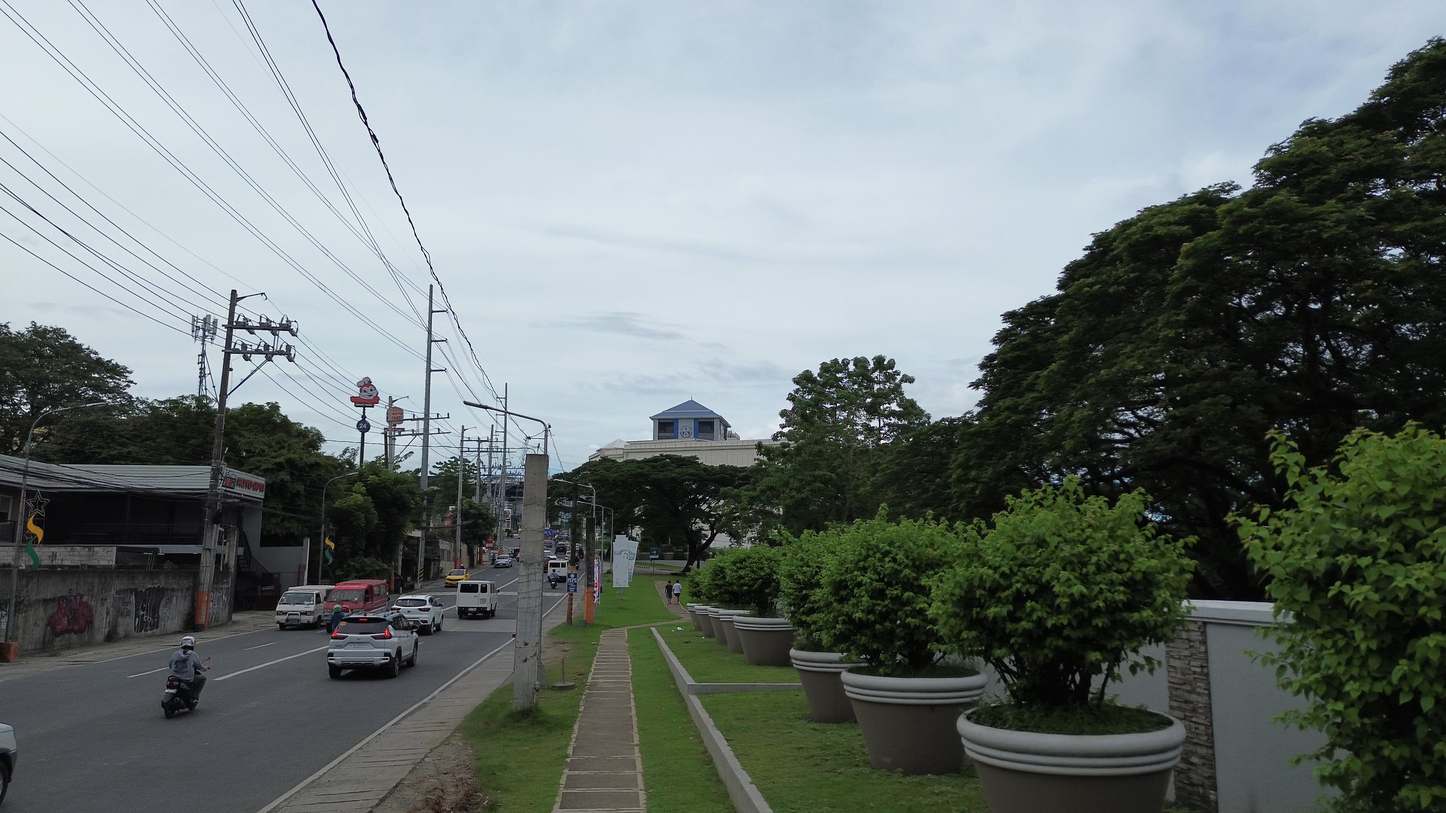car: (494, 554, 513, 568)
vehicle: (327, 611, 419, 678), (325, 580, 388, 621), (276, 585, 331, 629), (391, 595, 444, 635), (161, 675, 198, 719), (456, 580, 497, 618), (0, 724, 17, 802), (444, 569, 468, 587)
